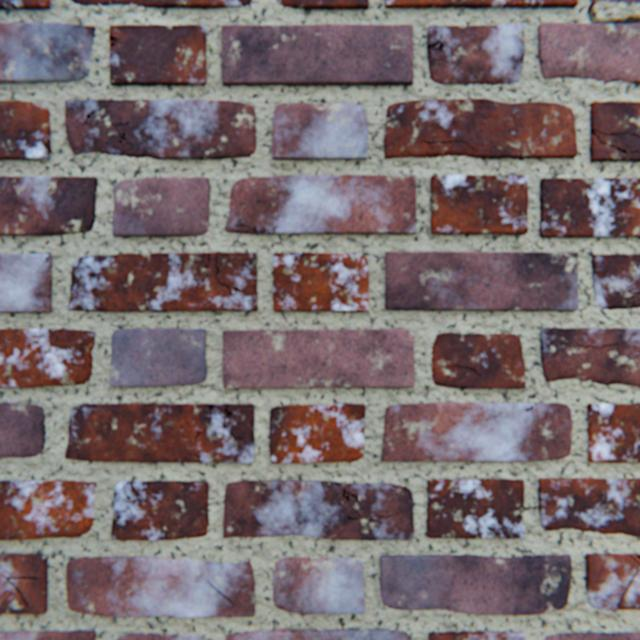brick: (222, 26, 412, 86), (223, 479, 413, 539), (67, 555, 255, 615), (384, 100, 575, 159), (380, 554, 570, 613), (226, 175, 415, 234), (385, 252, 577, 310), (223, 329, 413, 387), (66, 101, 256, 159), (381, 402, 570, 460), (66, 403, 254, 461), (69, 253, 257, 311), (537, 24, 639, 84), (537, 477, 639, 536), (539, 179, 639, 237), (110, 26, 206, 86), (0, 24, 96, 84), (426, 478, 523, 537), (112, 480, 209, 539), (0, 480, 97, 539), (539, 328, 639, 385), (0, 177, 98, 235), (430, 176, 527, 234), (426, 27, 523, 85), (114, 178, 210, 236), (111, 328, 207, 386), (270, 403, 364, 462), (273, 253, 368, 311), (0, 329, 96, 386), (272, 104, 367, 160), (430, 333, 524, 388), (272, 556, 364, 612), (584, 552, 639, 609), (586, 403, 639, 462), (0, 254, 53, 311), (0, 102, 52, 160), (588, 102, 639, 161), (0, 552, 48, 612), (590, 254, 639, 309), (0, 402, 47, 456), (226, 628, 410, 639), (385, 0, 576, 9), (69, 0, 252, 9), (277, 0, 368, 11), (0, 629, 96, 639), (428, 630, 524, 639), (543, 631, 639, 639), (118, 632, 204, 639), (0, 0, 51, 10), (592, 0, 639, 4)
crack: (585, 0, 639, 25), (591, 129, 639, 155), (0, 572, 37, 605), (616, 554, 639, 606), (216, 253, 239, 296), (195, 404, 218, 441), (420, 141, 477, 152), (428, 35, 455, 57), (208, 580, 234, 602), (441, 365, 481, 376), (355, 506, 379, 519), (223, 404, 232, 433), (376, 514, 391, 531), (342, 488, 357, 504), (195, 274, 207, 293), (82, 110, 96, 126), (575, 342, 613, 347), (624, 285, 639, 294), (110, 121, 129, 128), (110, 33, 118, 47), (251, 227, 269, 233), (205, 253, 210, 272), (234, 434, 242, 445), (115, 80, 135, 84), (523, 403, 534, 410), (119, 133, 126, 143), (235, 224, 249, 228), (46, 254, 51, 263), (347, 515, 357, 518)
